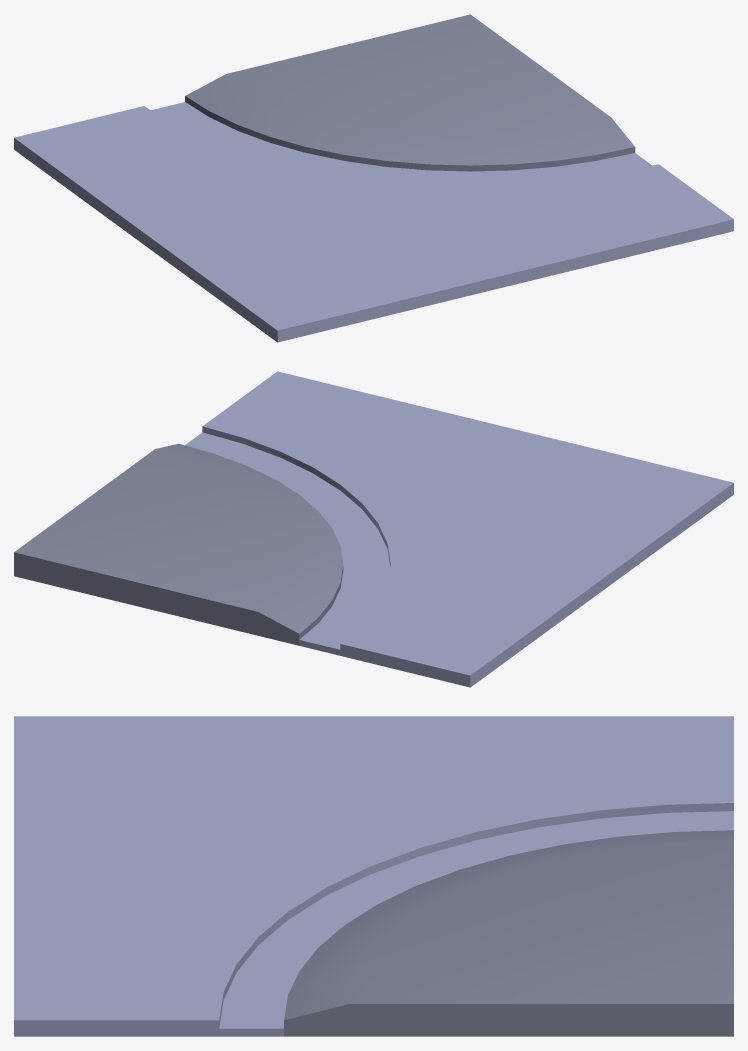
File: kenney-fantasy-town-road-corner.glb
The picture shows the model from 3 angles, top to bottom: view 1: azimuth 30°, elevation 25°; view 2: azimuth 150°, elevation 25°; view 3: azimuth 270°, elevation 25°; orthographic projection. The views are drawn at different scales.
Visible parts, largest first — view 1: road-corner; view 2: road-corner; view 3: road-corner.
Boxes of the visible parts, bbox=[...] form: road-corner: bbox=[14, 14, 733, 342]; road-corner: bbox=[14, 371, 733, 687]; road-corner: bbox=[14, 716, 733, 1036].
Size of the model in its own units: 1 by 0.0501 by 1.
Materials: 1 (1 with a texture image).
